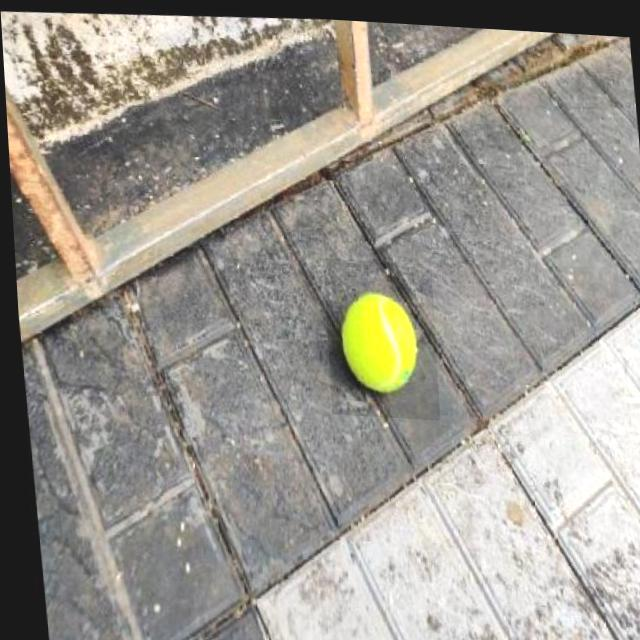-: (320, 254, 436, 416)
